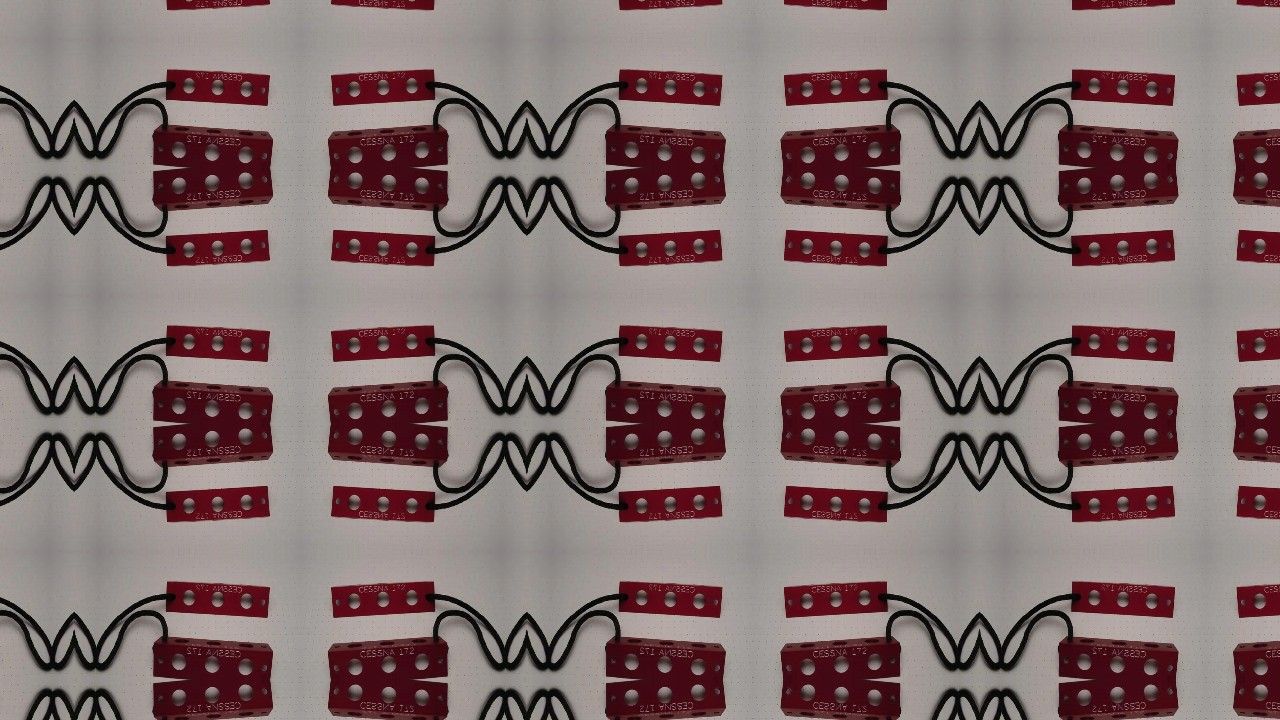chock: (149, 122, 274, 167), (326, 122, 451, 167), (602, 122, 727, 167), (779, 122, 904, 167), (1056, 122, 1181, 167), (149, 167, 274, 212), (326, 167, 451, 212), (602, 167, 727, 212), (779, 167, 904, 212), (1056, 167, 1181, 212), (149, 379, 274, 424), (326, 379, 451, 424), (602, 379, 727, 424), (779, 379, 904, 424), (1056, 379, 1181, 424), (149, 424, 274, 469), (326, 424, 451, 469), (602, 424, 727, 469), (779, 424, 904, 469), (1056, 424, 1181, 469), (149, 636, 274, 681), (326, 636, 451, 681), (602, 636, 727, 681), (779, 636, 904, 681), (1056, 636, 1181, 681), (149, 681, 274, 720), (326, 681, 451, 720), (602, 681, 727, 720), (779, 681, 904, 720), (1056, 681, 1181, 720), (161, 67, 271, 106), (329, 67, 439, 106), (782, 67, 892, 106), (1068, 67, 1178, 106), (161, 324, 271, 363), (329, 324, 439, 363), (782, 324, 892, 363), (1068, 324, 1178, 363), (161, 485, 271, 524), (329, 485, 439, 524), (782, 485, 892, 524), (1068, 485, 1178, 524), (615, 67, 724, 106), (615, 324, 724, 363), (615, 485, 724, 524), (161, 229, 271, 267), (329, 229, 439, 267), (782, 229, 892, 267), (1068, 229, 1178, 267), (161, 581, 271, 619), (329, 581, 439, 619), (782, 581, 892, 619), (1068, 581, 1178, 619), (615, 229, 724, 267), (615, 581, 724, 619), (1233, 122, 1280, 167), (1233, 167, 1280, 212), (1233, 379, 1280, 424), (1233, 424, 1280, 469), (1233, 636, 1280, 681), (1233, 681, 1280, 720), (1236, 67, 1280, 106), (1236, 324, 1280, 363), (1236, 485, 1280, 524), (1236, 229, 1280, 267), (1236, 581, 1280, 619), (161, 0, 271, 11), (329, 0, 439, 11), (782, 0, 892, 11), (1068, 0, 1178, 11), (615, 0, 724, 11), (1236, 0, 1280, 11)
